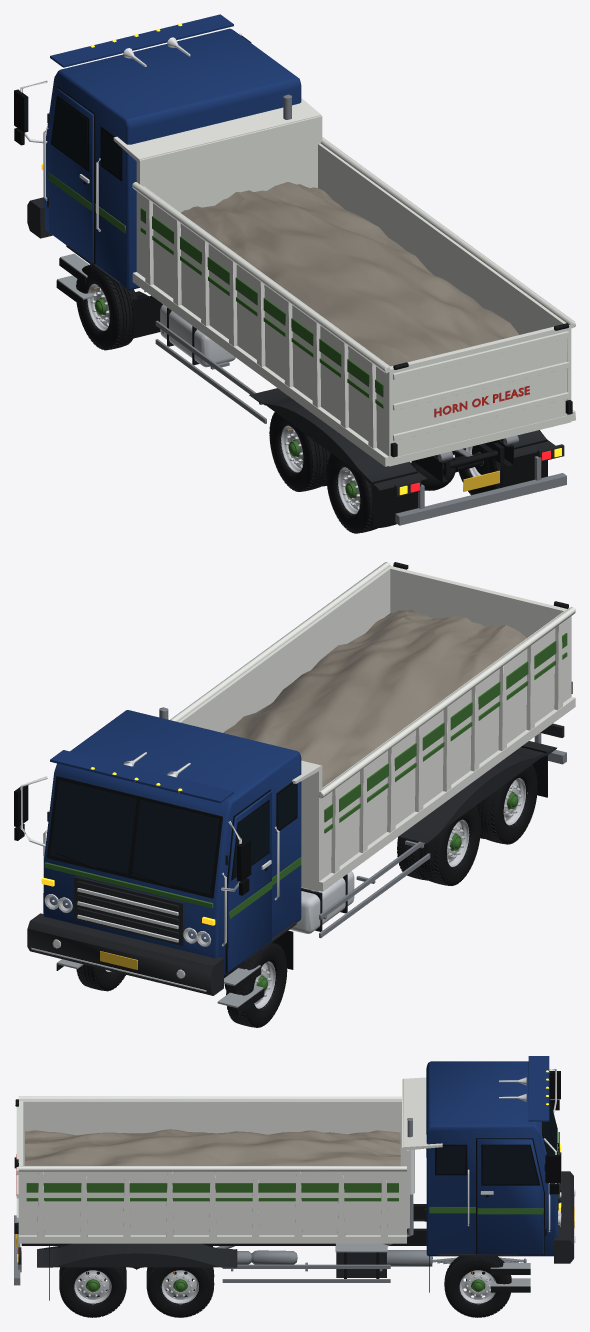
The model's file is truck-low.glb.
3 renders of one model, top to bottom at view 1: azimuth 30°, elevation 25°; view 2: azimuth 150°, elevation 25°; view 3: azimuth 270°, elevation 25°, orthographic. The views are drawn at different scales.
Parts seen in each view (by area): view 1: tipper_body, cab, chassis, door_left, wheel_fl_tyre, wheel_r1lo_tyre, wheel_r2lo_tyre, fuel_tank, rear_axles; view 2: tipper_body, cab, chassis, door_left, wheel_r2lo_tyre, wheel_r1lo_tyre, wheel_fl_tyre, fuel_tank, wheel_fr_tyre, wheel_r1li_tyre; view 3: tipper_body, cab, chassis, door_right, rim (×3), wheel_fr_tyre, wheel_r1ro_tyre, wheel_r2ro_tyre, battery_box.
Part boxes in pixels (box(x1,y1,x2,y2)): tipper_body: box(113, 98, 575, 466); cab: box(14, 14, 301, 306); chassis: box(132, 94, 566, 527); door_left: box(47, 86, 95, 264); wheel_fl_tyre: box(76, 264, 134, 350); wheel_r1lo_tyre: box(269, 412, 330, 491); wheel_r2lo_tyre: box(326, 454, 380, 533); fuel_tank: box(160, 304, 235, 367); rear_axles: box(411, 445, 487, 490); tipper_body: box(170, 562, 575, 891); cab: box(14, 710, 301, 1014); chassis: box(159, 707, 566, 969); door_left: box(225, 789, 272, 973); wheel_r2lo_tyre: box(476, 764, 537, 844); wheel_r1lo_tyre: box(419, 806, 480, 885); wheel_fl_tyre: box(226, 942, 287, 1027); fuel_tank: box(290, 871, 354, 933); wheel_fr_tyre: box(76, 964, 125, 991); wheel_r1li_tyre: box(397, 832, 451, 880); tipper_body: box(14, 1077, 442, 1243); cab: box(426, 1056, 575, 1292); chassis: box(14, 1118, 432, 1300); door_right: box(476, 1138, 546, 1254); rim (×3): box(74, 1270, 495, 1304); wheel_fr_tyre: box(444, 1256, 511, 1317); wheel_r1ro_tyre: box(146, 1267, 214, 1317); wheel_r2ro_tyre: box(59, 1267, 126, 1317); battery_box: box(335, 1243, 387, 1278).
Bounding box in the file's own units: 3.13 × 3.42 × 8.68.
